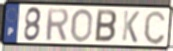8: (22, 5, 42, 43)
B: (93, 8, 118, 44)
C: (142, 9, 167, 46)
K: (121, 9, 141, 44)
O: (69, 7, 94, 43)
R: (45, 7, 70, 42)
